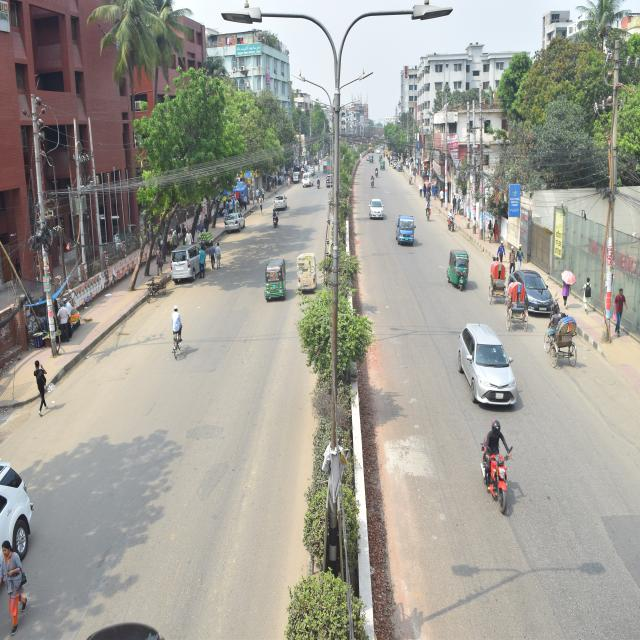car: (454, 319, 520, 414), (510, 262, 559, 318), (220, 209, 250, 239), (370, 194, 388, 221), (271, 193, 288, 214), (300, 171, 312, 190)
microbus: (0, 450, 49, 598), (165, 239, 203, 286)
motorbike: (464, 429, 516, 528), (444, 214, 458, 234), (550, 297, 562, 311), (366, 177, 378, 187), (315, 176, 322, 189)
